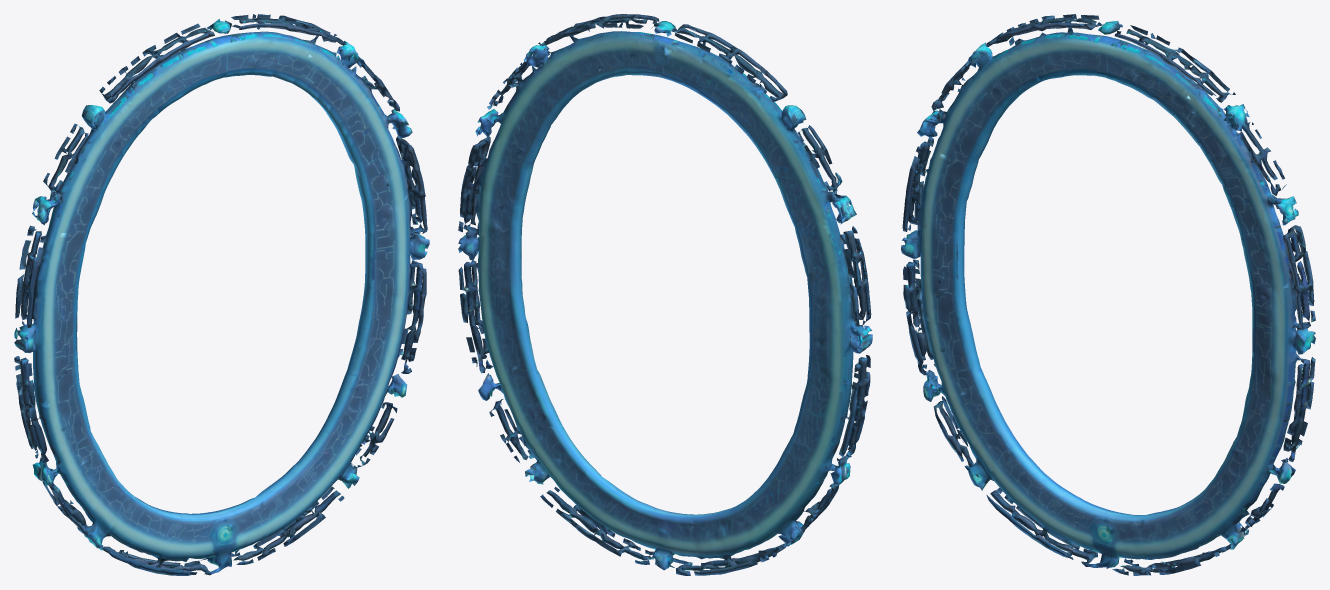
The model's file is portal2.glb.
3 views of the same model, side by side, from view 1: azimuth 30°, elevation 25°; view 2: azimuth 150°, elevation 25°; view 3: azimuth 330°, elevation 25° (orthographic).
Size of the model in its own units: 1.55 by 1.99 by 0.0933.
1 material, 1 textured.
